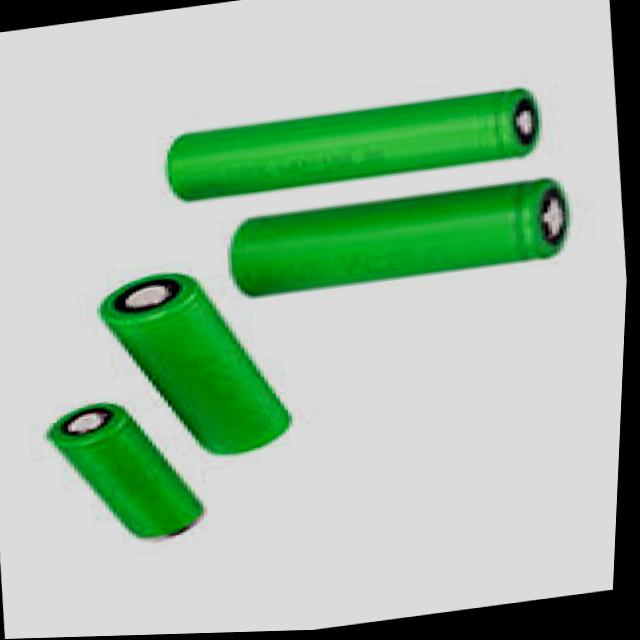B3: (149, 50, 581, 214), (222, 171, 580, 309)
